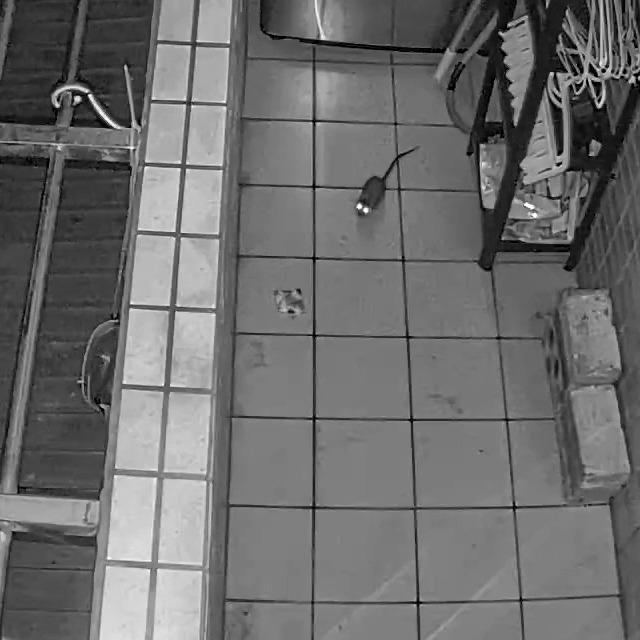rat: (355, 145, 422, 218)
